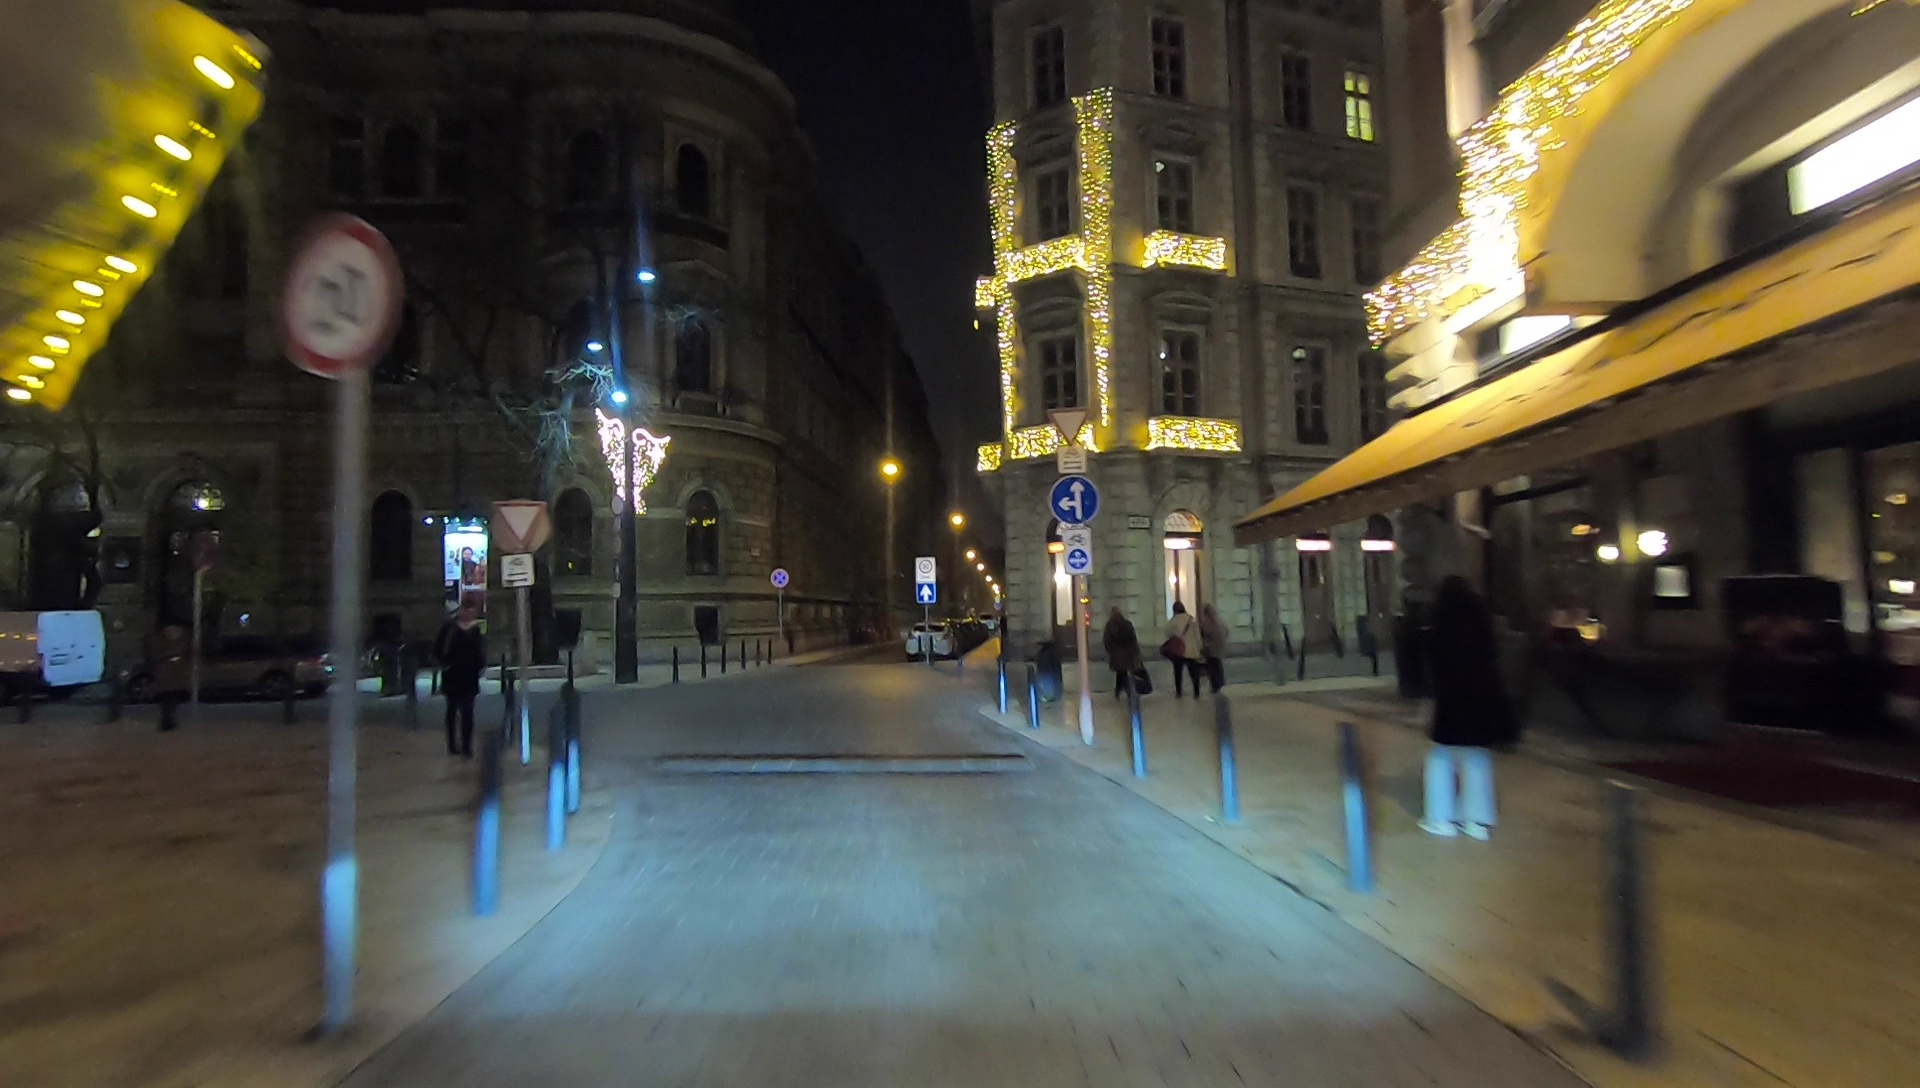person: (1417, 574, 1506, 843), (436, 599, 482, 756), (1101, 600, 1147, 695), (1164, 593, 1202, 699), (1193, 597, 1228, 695)
